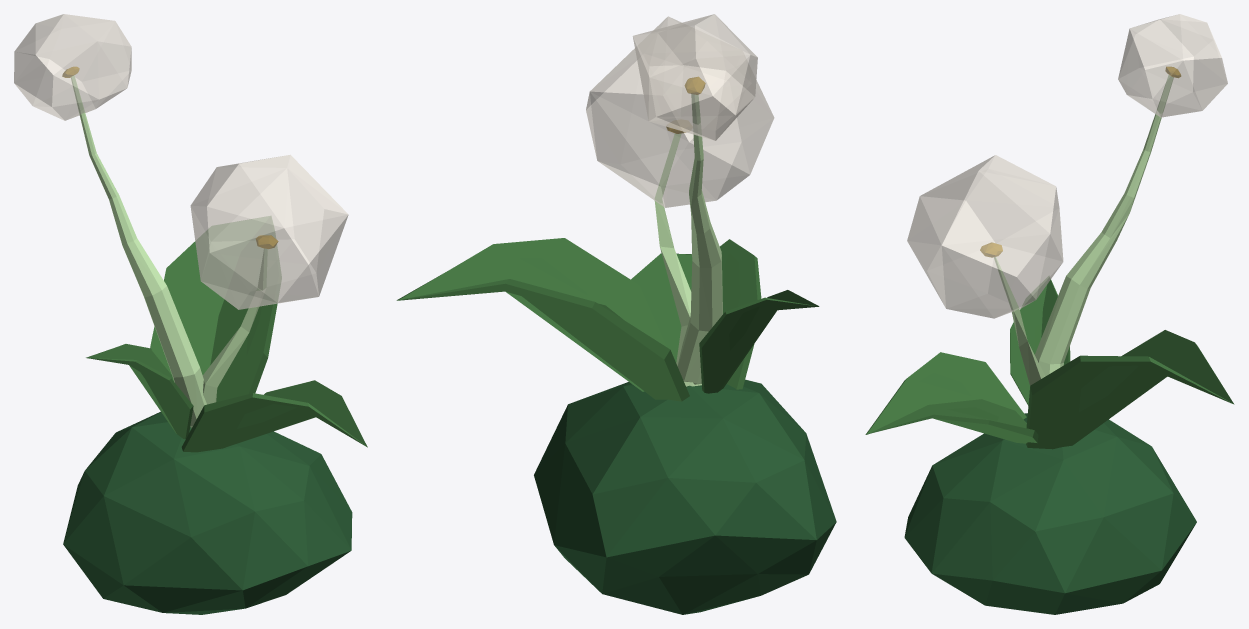
Rendered from low_poly_dandelion_v3.fbx.
3 renders of one model, left to right at view 1: azimuth 30°, elevation 25°; view 2: azimuth 150°, elevation 25°; view 3: azimuth 270°, elevation 25°, orthographic. The views are drawn at different scales.
Parts seen in each view (by area): view 1: Ground.002, Puff.006, Leaves 2.002, Puff.008, Leaves 1.002, Stem.008, Leaves 3.002, Stem.006; view 2: Ground.002, Puff.006, Leaves 2.002, Puff.008, Stem.008, Leaves 1.002, Leaves 3.002, Stem.006; view 3: Ground.002, Puff.006, Leaves 2.002, Puff.008, Leaves 1.002, Stem.008, Leaves 3.002, Stem.006.
Boxes of the visible parts, <box> form: Ground.002: <box>63,411,352,614</box>; Puff.006: <box>190,154,348,309</box>; Leaves 2.002: <box>150,216,281,402</box>; Puff.008: <box>14,14,131,120</box>; Leaves 1.002: <box>181,380,367,452</box>; Stem.008: <box>71,75,206,427</box>; Leaves 3.002: <box>86,344,193,439</box>; Stem.006: <box>191,248,267,428</box>; Ground.002: <box>534,379,836,614</box>; Puff.006: <box>586,16,774,207</box>; Leaves 2.002: <box>396,238,689,401</box>; Puff.008: <box>632,14,757,140</box>; Stem.008: <box>677,94,722,384</box>; Leaves 1.002: <box>631,239,761,389</box>; Leaves 3.002: <box>699,290,819,393</box>; Stem.006: <box>654,133,701,386</box>; Ground.002: <box>904,413,1196,614</box>; Puff.006: <box>907,155,1063,318</box>; Leaves 2.002: <box>1026,330,1234,449</box>; Puff.008: <box>1118,14,1227,117</box>; Leaves 1.002: <box>865,352,1038,443</box>; Stem.008: <box>1035,75,1173,376</box>; Leaves 3.002: <box>1010,276,1070,405</box>; Stem.006: <box>994,257,1044,385</box>.
Bounding box in the file's own units: 292 × 537 × 326.
